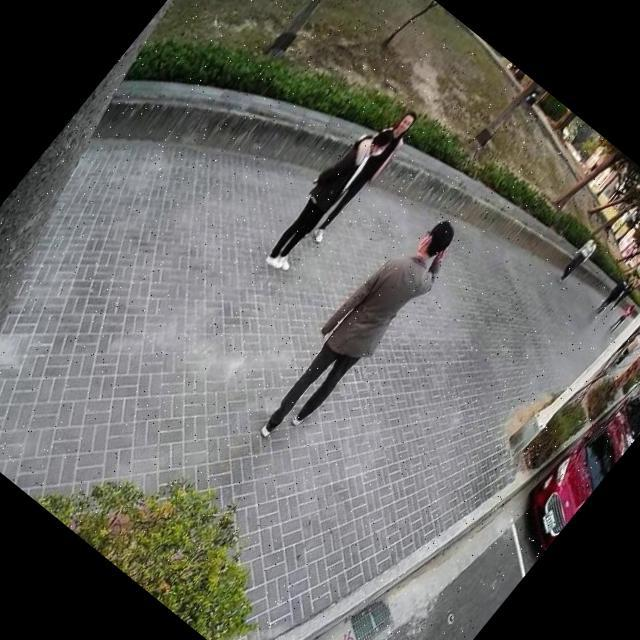person: (241, 197, 474, 462), (251, 106, 404, 281), (292, 96, 428, 252), (554, 223, 610, 287), (590, 266, 638, 322), (606, 322, 640, 374)
